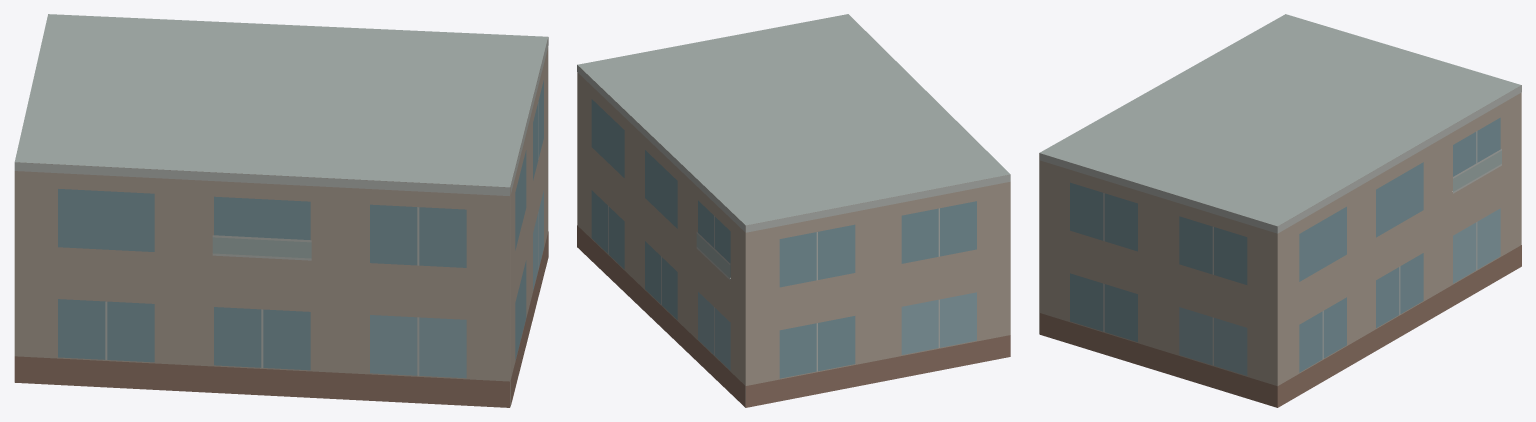
Rendered from survey-upis-32752335.glb.
3 views of the same model, side by side, from view 1: azimuth 30°, elevation 25°; view 2: azimuth 150°, elevation 25°; view 3: azimuth 270°, elevation 25° (orthographic). The views are drawn at different scales.
Visible parts, largest first — view 1: survey-upis-32752335.tmp; view 2: survey-upis-32752335.tmp; view 3: survey-upis-32752335.tmp.
Part boxes in pixels (x1,y1,x2,y2): survey-upis-32752335.tmp: (14, 14, 548, 407); survey-upis-32752335.tmp: (577, 14, 1010, 407); survey-upis-32752335.tmp: (1039, 14, 1521, 407).
Bounding box in the file's own units: 15.32 × 6.1 × 14.71.
